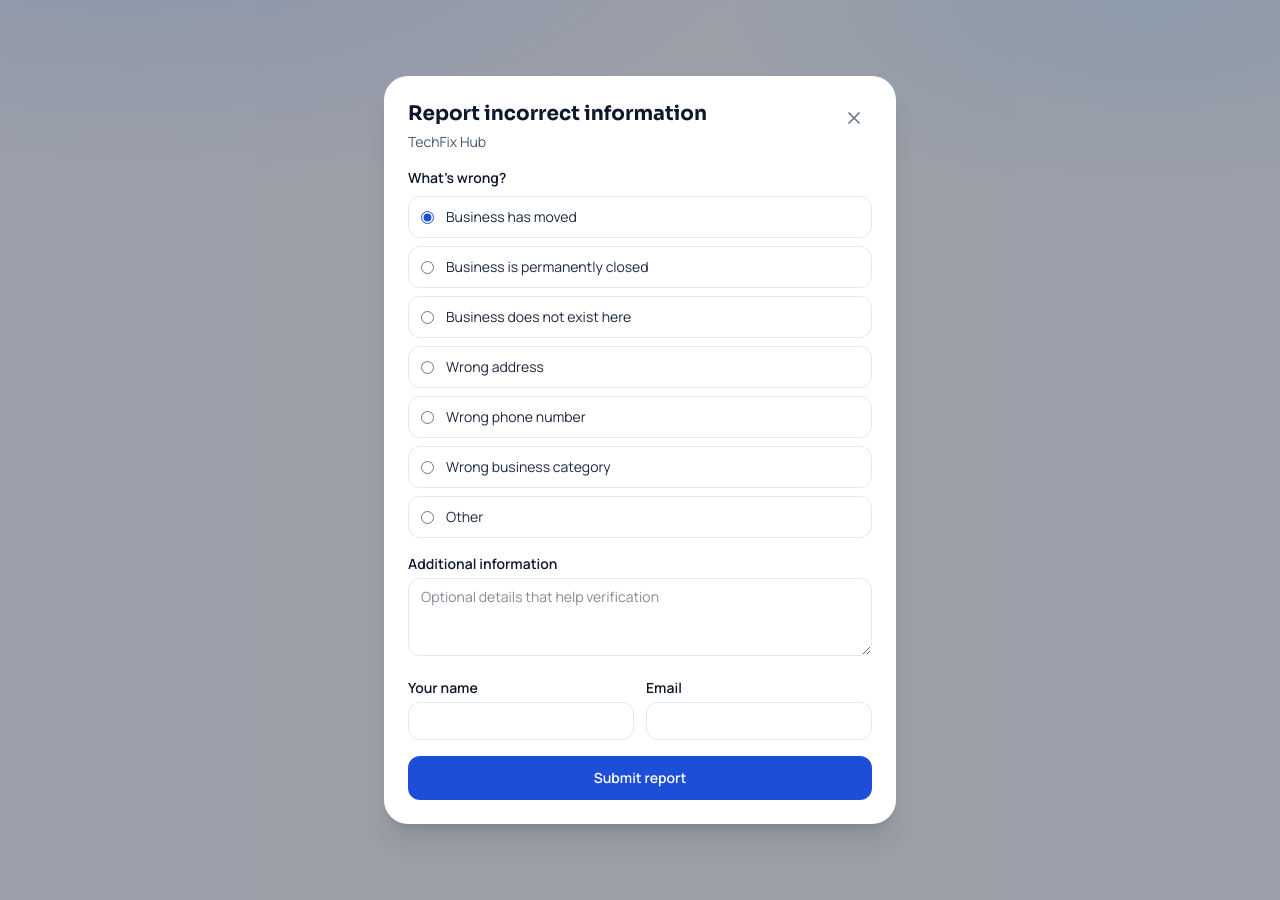
Test: ReportModal › submits a report
Click the button "Submit report": click(640, 778) [408,756,872,800]
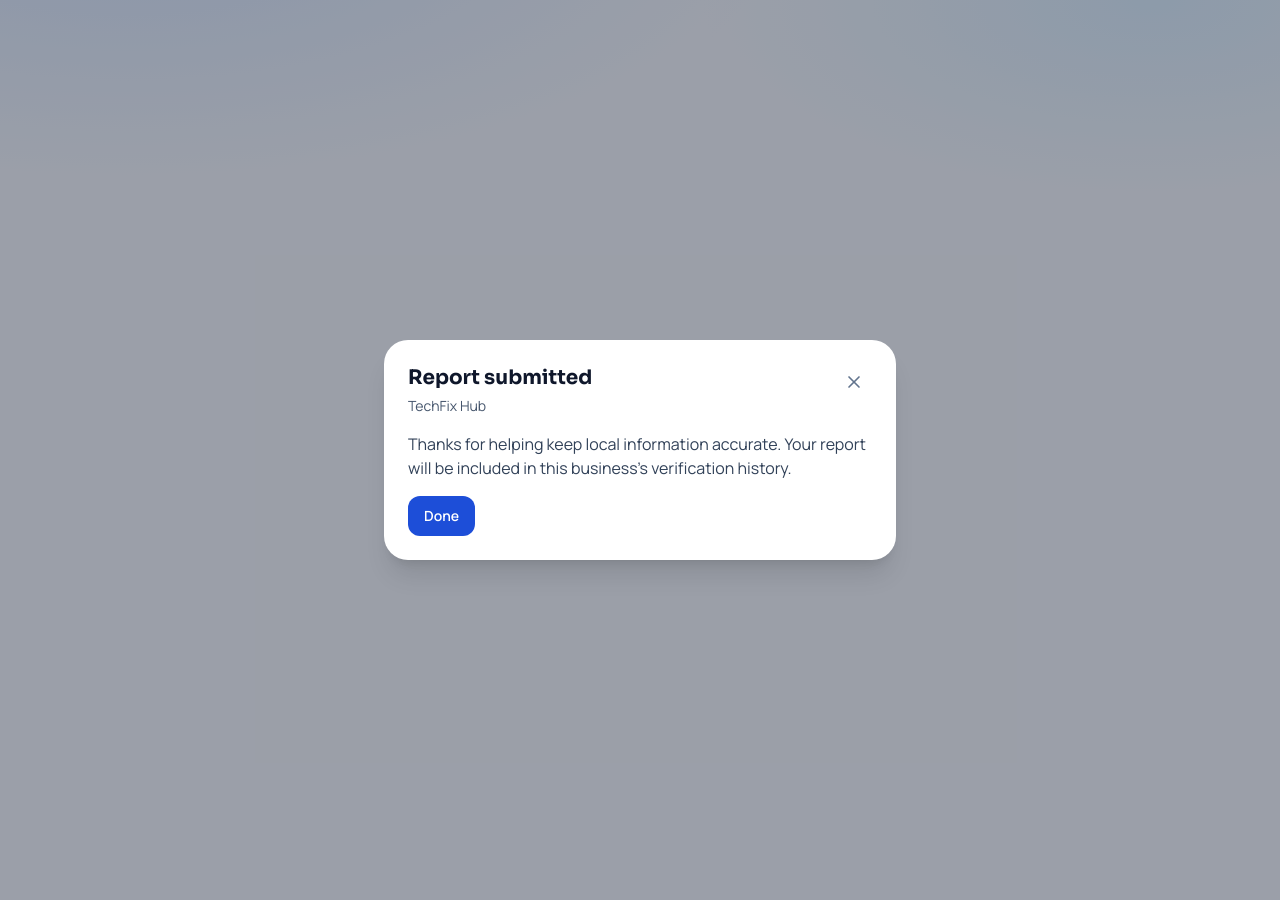
Expected: the heading "Report submitted" is shown, [408,364,592,392]
